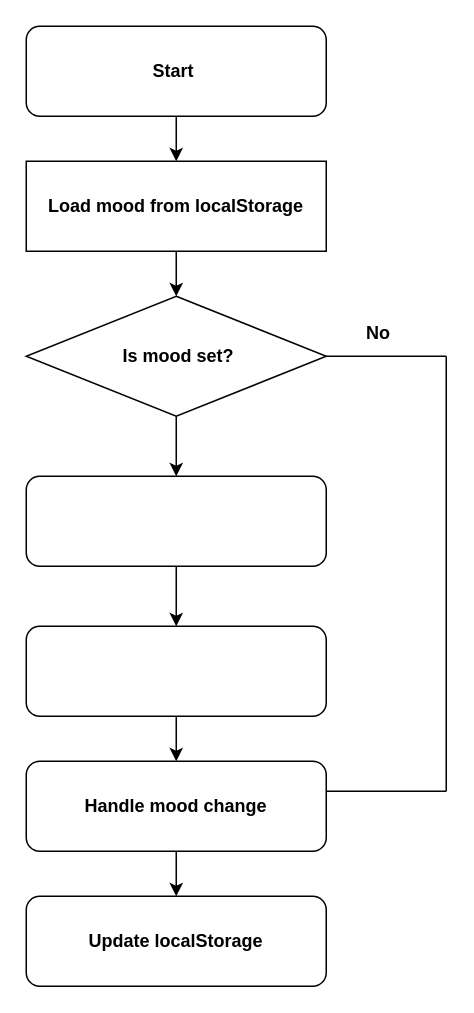
Some shapes in this 474 by 1013 pixel diagram are drawn without their labels. Each missing label, with the centre of its shape:
"Apply Mood colors" belongs at point 175,670.
"Set default mood" belongs at point 175,520.
